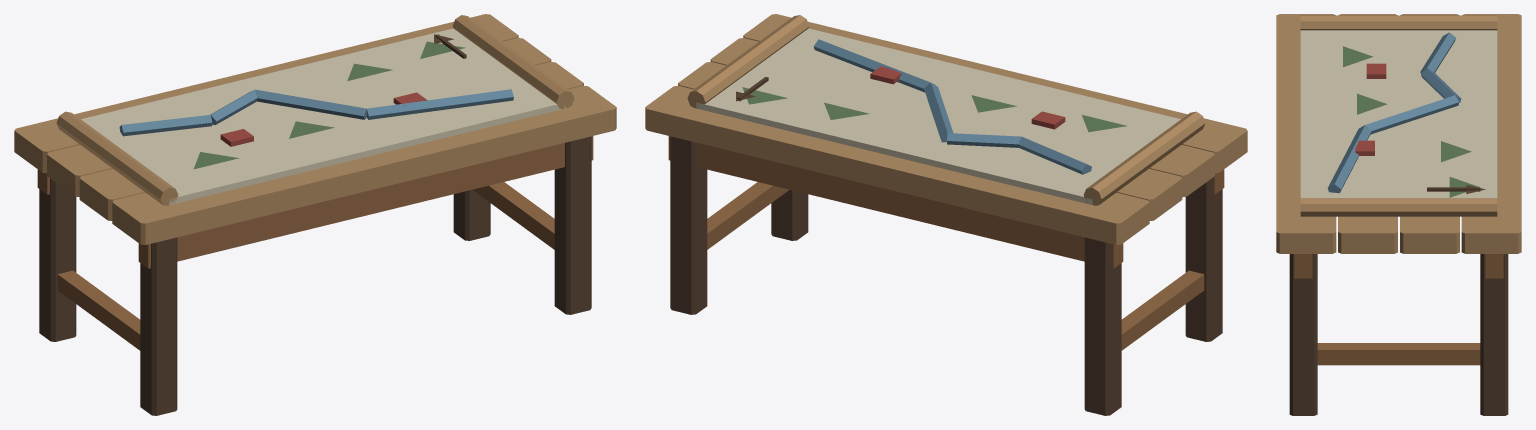
Rendered from table_map.glb.
3 renders of one model, left to right at view 1: azimuth 30°, elevation 25°; view 2: azimuth 150°, elevation 25°; view 3: azimuth 270°, elevation 25°, orthographic. The views are drawn at different scales.
Parts seen in each view (by area): view 1: geometry; view 2: geometry; view 3: geometry.
Boxes of the visible parts, left/top/right/bottom form: geometry: left=14, top=14, right=616, bottom=415; geometry: left=645, top=14, right=1247, bottom=415; geometry: left=1276, top=14, right=1521, bottom=415.
Size of the model in its own units: 1.85 by 0.815 by 0.874.
